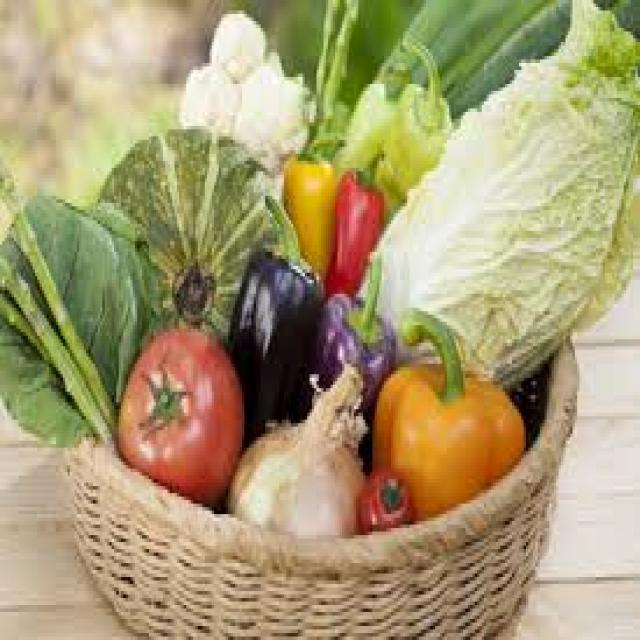organic waste: (351, 0, 638, 392), (93, 126, 296, 343), (0, 157, 144, 433), (382, 0, 638, 154), (365, 307, 524, 503), (224, 357, 366, 535), (116, 322, 242, 504), (230, 192, 319, 427), (179, 10, 310, 161), (316, 248, 396, 420), (375, 28, 449, 203), (338, 45, 400, 182), (303, 0, 356, 154), (286, 122, 342, 262), (324, 144, 382, 276), (356, 462, 412, 532)
